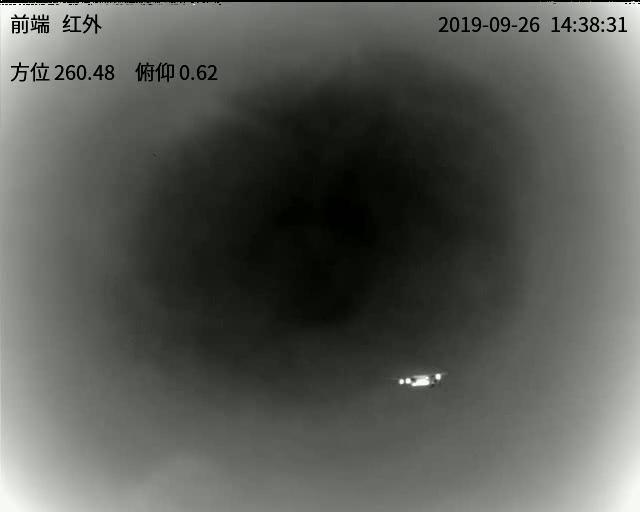DRONE: (395, 371, 444, 390)
